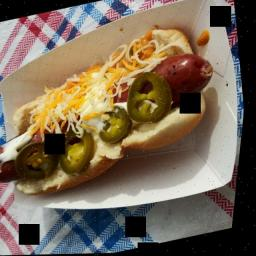hotdog: (0, 15, 238, 208)
